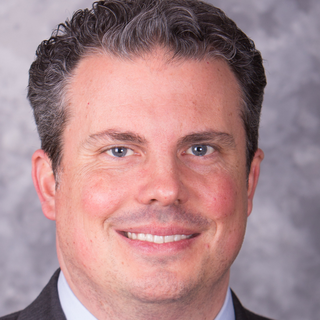eye: (91, 135, 146, 163), (175, 135, 224, 165)
